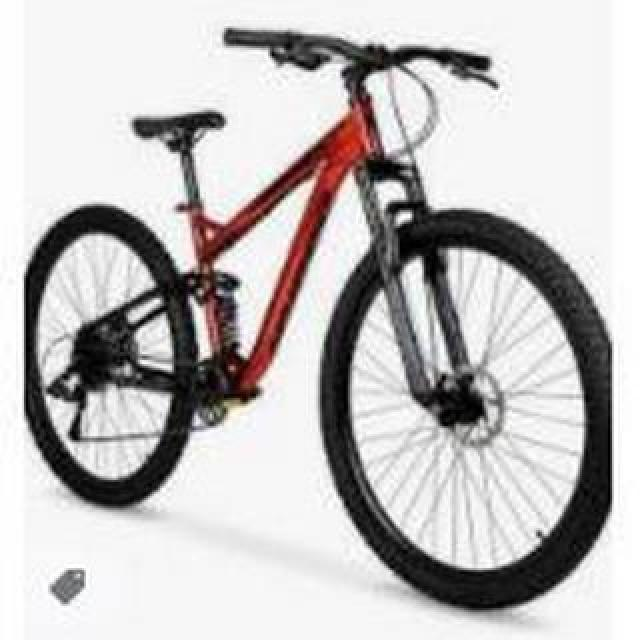Person: (25, 29, 629, 615)
